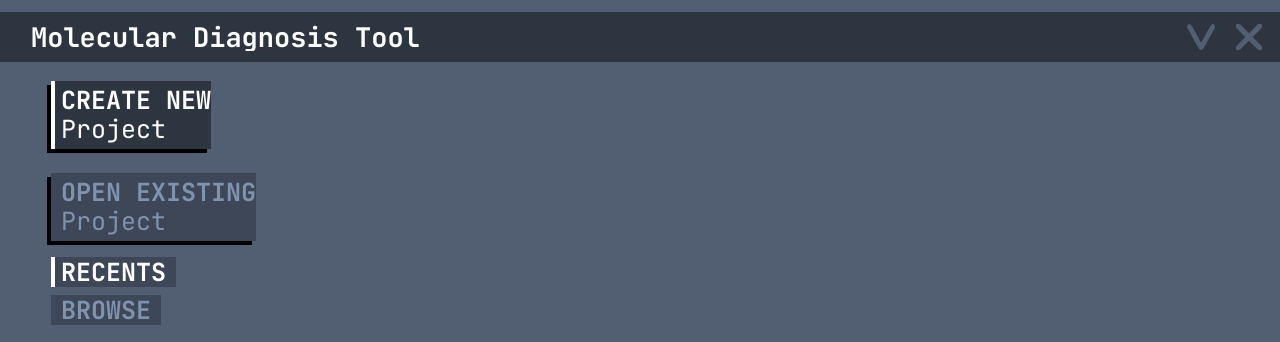
Scenario: one screen, before and after Create › shows the title field with Create beside it, and the same FASTA table
The image size is (1280, 342).
Click the button "Create New Project" at (131, 115), box [51,81,211,149]
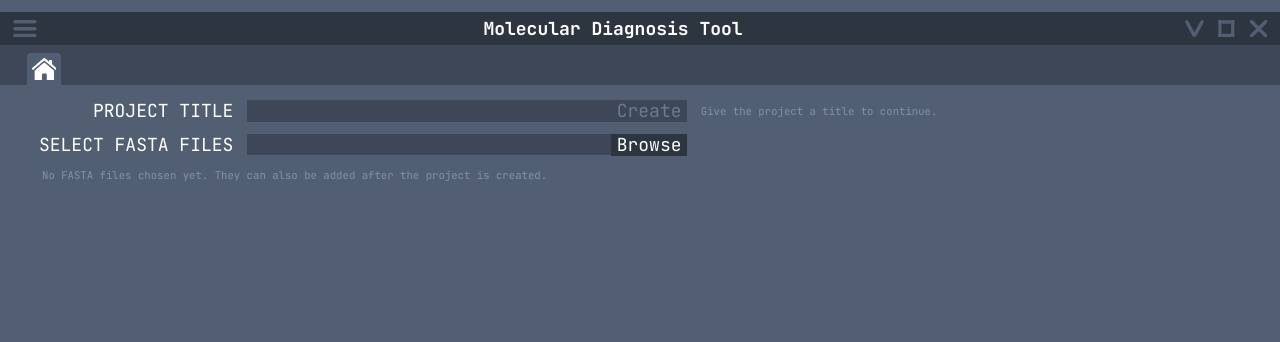
Check: the field labelled "PROJECT TITLE" is shown, box [247,100,611,122]
Check: the button with aria-label "Create project" is shown, box [611,100,687,122]
Check: the element "FASTA files" is shown, box [42,168,547,182]
